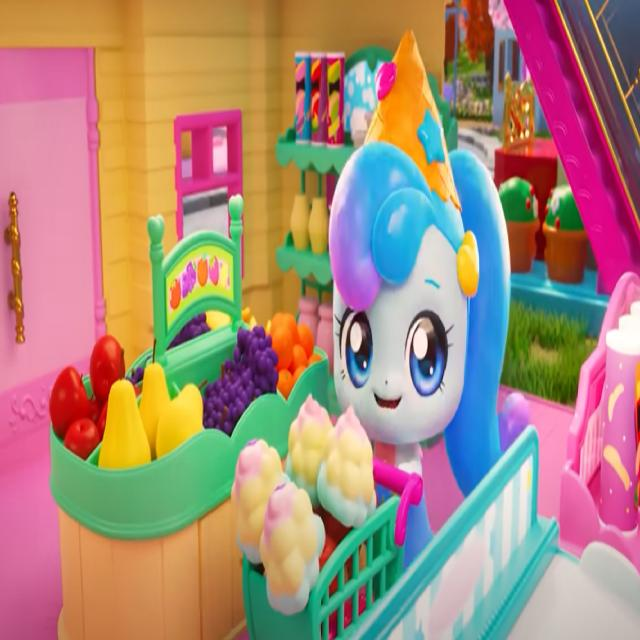Shashaping: (328, 28, 512, 570)
